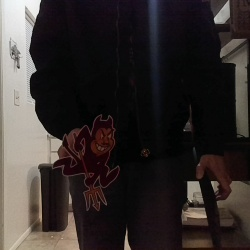sparky: (50, 113, 120, 211)
